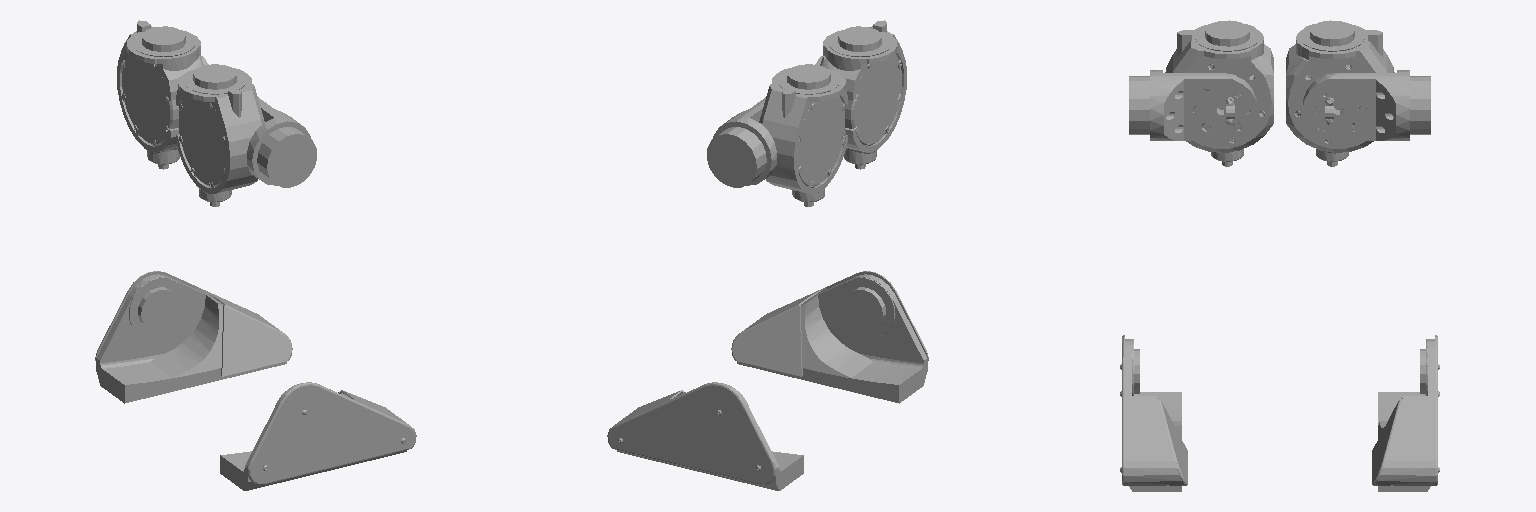
robot.urdf — bdx:
<?xml version="1.0" ?>
<robot name="bdx">
  <material name="silver">
    <color rgba="0.700 0.700 0.700 1.000"/>
  </material>
  <link name="trunk">
    <inertial>
      <origin xyz="0 0 0" rpy="0 0 0" />
      <mass value="1e-9" />
      <inertia ixx="0" ixy="0" ixz="0" iyy="0" iyz="0" izz="0" />
    </inertial>
  </link>
  <joint name="trunk_frame" type="fixed">
    <origin xyz="-0.035 0 0.26943" rpy="0 0 0" />
    <parent link="pelvis" />
    <child link="trunk" />
    <axis xyz="0 0 0"/>
  </joint>
  <joint name="left_hip_yaw" type="revolute">
    <origin rpy="0 0 0" xyz="-0.033111 0.046658 0.363959"/>
    <parent link="pelvis"/>
    <child link="left_hip_rotation"/>
    <axis xyz="-0.0 0.0 -1.0"/>
    <limit lower="-0.7853982" upper="0.7853982" effort="23.7" velocity="30"/>
  </joint>
  <joint name="left_hip_roll" type="revolute">
    <origin rpy="0 0 0" xyz="-0.0073 0.00275 -0.076"/>
    <parent link="left_hip_rotation"/>
    <child link="left_hip"/>
    <axis xyz="1.0 -0.0 -0.0"/>
    <limit lower="-0.7853982" upper="0.7853982" effort="23.7" velocity="30"/>
  </joint>
  <joint name="left_hip_pitch" type="revolute">
    <origin rpy="0 0 0" xyz="0.017466 0.069601 0.000785"/>
    <parent link="left_hip"/>
    <child link="left_thigh"/>
    <axis xyz="0.0 1.0 0.0"/>
    <limit lower="-0.7853982" upper="0.7853982" effort="23.7" velocity="30"/>
  </joint>
  <joint name="left_knee" type="revolute">
    <origin rpy="0 0 0" xyz="-0.079306 0.0 -0.077708"/>
    <parent link="left_thigh"/>
    <child link="left_shin"/>
    <axis xyz="-0.0 -1.0 0.0"/>
    <limit lower="-0.7853982" upper="0.7853982" effort="23.7" velocity="30"/>
  </joint>
  <joint name="left_ankle" type="revolute">
    <origin rpy="0 0 0" xyz="0.045 -0.0152 -0.13"/>
    <parent link="left_shin"/>
    <child link="left_foot_link"/>
    <axis xyz="0.0 1.0 -0.0"/>
    <limit lower="-0.7853982" upper="0.7853982" effort="23.7" velocity="30"/>
  </joint>
  <joint name="right_hip_yaw" type="revolute">
    <origin rpy="0 0 0" xyz="-0.033111 -0.046658 0.363959"/>
    <parent link="pelvis"/>
    <child link="right_hip_rotation"/>
    <axis xyz="-0.0 -0.0 -1.0"/>
    <limit lower="-0.7853982" upper="0.7853982" effort="23.7" velocity="30"/>
  </joint>
  <joint name="right_hip_roll" type="revolute">
    <origin rpy="0 0 0" xyz="-0.0073 -0.00275 -0.076"/>
    <parent link="right_hip_rotation"/>
    <child link="right_hip"/>
    <axis xyz="1.0 -0.0 -0.0"/>
    <limit lower="-0.7853982" upper="0.7853982" effort="23.7" velocity="30"/>
  </joint>
  <joint name="right_hip_pitch" type="revolute">
    <origin rpy="0 0 0" xyz="0.017466 -0.069601 0.000785"/>
    <parent link="right_hip"/>
    <child link="right_thigh"/>
    <axis xyz="-0.0 -1.0 0.0"/>
    <limit lower="-0.7853982" upper="0.7853982" effort="23.7" velocity="30"/>
  </joint>
  <joint name="right_knee" type="revolute">
    <origin rpy="0 0 0" xyz="-0.079306 0.0 -0.077708"/>
    <parent link="right_thigh"/>
    <child link="right_shin"/>
    <axis xyz="0.0 1.0 -0.0"/>
    <limit lower="-0.7853982" upper="0.7853982" effort="23.7" velocity="30"/>
  </joint>
  <joint name="right_ankle" type="revolute">
    <origin rpy="0 0 0" xyz="0.045 0.0152 -0.13"/>
    <parent link="right_shin"/>
    <child link="right_foot_link"/>
    <axis xyz="-0.0 -1.0 0.0"/>
    <limit lower="-0.7853982" upper="0.7853982" effort="23.7" velocity="30"/>
  </joint>
  <joint name="neck_pitch" type="revolute">
    <origin rpy="0 0 0" xyz="0.056339 0.0119 0.395171"/>
    <parent link="pelvis"/>
    <child link="neck"/>
    <axis xyz="-0.0 -1.0 0.0"/>
    <limit lower="-0.7853982" upper="0.7853982" effort="23.7" velocity="30"/>
  </joint>
  <joint name="head_pitch" type="revolute">
    <origin rpy="0 0 0" xyz="-0.065022 -0.01175 0.11088"/>
    <parent link="neck"/>
    <child link="head_body_pitch"/>
    <axis xyz="-0.0 -1.0 0.0"/>
    <limit lower="-0.7853982" upper="0.7853982" effort="7.3" velocity="5.55"/>
  </joint>
  <joint name="head_yaw" type="revolute">
    <origin rpy="0 0 0" xyz="0.000299 0.0007 0.02897"/>
    <parent link="head_body_pitch"/>
    <child link="head_body_yaw"/>
    <axis xyz="-0.0 -0.0 1.0"/>
    <limit lower="-0.7853982" upper="0.7853982" effort="7.3" velocity="5.55"/>
  </joint>
  <joint name="head_roll" type="revolute">
    <origin rpy="0 0 0" xyz="0.039892 0.0 0.02715"/>
    <parent link="head_body_yaw"/>
    <child link="head_body_roll"/>
    <axis xyz="1.0 -0.0 0.0"/>
    <limit lower="-0.7853982" upper="0.7853982" effort="7.3" velocity="5.55"/>
  </joint>
  <joint name="left_antenna" type="revolute">
    <origin rpy="0 0 0" xyz="-0.16665 0.0683 0.001231"/>
    <parent link="head_body_roll"/>
    <child link="ear_left"/>
    <axis xyz="-0.0 -1.0 -0.0"/>
    <limit lower="-0.7853982" upper="0.7853982" effort="0.2943" velocity="13.62"/>
  </joint>
  <joint name="right_antenna" type="revolute">
    <origin rpy="0 0 0" xyz="-0.16665 -0.0697 0.001231"/>
    <parent link="head_body_roll"/>
    <child link="ear_right"/>
    <axis xyz="-0.0 -1.0 -0.0"/>
    <limit lower="-0.7853982" upper="0.7853982" effort="0.2943" velocity="13.62"/>
  </joint>
  <link name="pelvis">
    <inertial>
      <origin rpy="0 0 0" xyz="-0.053755951684186565 0.0011833805784402802 0.3419474505132109"/>
      <mass value="5.713"/>
      <inertia ixx="0.201691" ixy="-0.002118" ixz="0.016433" iyy="0.431684" iyz="-0.001502" izz="0.371809"/>
    </inertial>
    <visual>
      <origin rpy="0 0 0" xyz="0 0 0"/>
      <geometry>
        <mesh filename="package://bdx_description/meshes/pelvis.stl" scale="0.001 0.001 0.001"/>
      </geometry>
      <material name="silver"/>
    </visual>
    <collision>
      <origin rpy="0 0 0" xyz="0 0 0"/>
      <geometry>
        <mesh filename="package://bdx_description/meshes/pelvis.stl" scale="0.001 0.001 0.001"/>
      </geometry>
    </collision>
  </link>
  <link name="left_foot">
    <inertial>
      <origin xyz="0 0 0" rpy="0 0 0" />
      <mass value="1e-9" />
      <inertia ixx="0" ixy="0" ixz="0" iyy="0" iyz="0" izz="0" />
    </inertial>
  </link>
  <joint name="left_foot_frame" type="fixed">
      <origin xyz="0.025 0.0 -0.0785" rpy="0 0 0" />
      <parent link="left_foot_link" />
      <child link="left_foot" />
      <axis xyz="0 0 0"/>
  </joint>
  <link name="left_foot_link">
    <inertial>
      <origin rpy="0 0 0" xyz="0.03176454302608206 0.007933373772940469 -0.042151517495486915"/>
      <mass value="0.678"/>
      <inertia ixx="0.003343" ixy="0.000338" ixz="0.000572" iyy="0.010216" iyz="-0.000559" izz="0.008414"/>
    </inertial>
    <visual>
      <origin rpy="0 0 0" xyz="0.057251 -0.103809 -0.081036"/>
      <geometry>
        <mesh filename="package://bdx_description/meshes/left_foot.stl" scale="0.001 0.001 0.001"/>
      </geometry>
      <material name="silver"/>
    </visual>
    <collision>
      <origin rpy="0 0 0" xyz="0.057251 -0.103809 -0.081036"/>
      <geometry>
        <mesh filename="package://bdx_description/meshes/left_foot.stl" scale="0.001 0.001 0.001"/>
      </geometry>
    </collision>
  </link>
  <link name="left_shin">
    <inertial>
      <origin rpy="0 0 0" xyz="0.022294583259108075 -0.014936697575107835 -0.09005879619606566"/>
      <mass value="0.633"/>
      <inertia ixx="0.008877" ixy="0.000288" ixz="0.002995" iyy="0.011732" iyz="-0.000503" izz="0.003534"/>
    </inertial>
    <visual>
      <origin rpy="0 0 0" xyz="0.102251 -0.119009 -0.211036"/>
      <geometry>
        <mesh filename="package://bdx_description/meshes/left_shin.stl" scale="0.001 0.001 0.001"/>
      </geometry>
      <material name="silver"/>
    </visual>
    <collision>
      <origin rpy="0 0 0" xyz="0.102251 -0.119009 -0.211036"/>
      <geometry>
        <mesh filename="package://bdx_description/meshes/left_shin.stl" scale="0.001 0.001 0.001"/>
      </geometry>
    </collision>
  </link>
  <link name="left_thigh">
    <inertial>
      <origin rpy="0 0 0" xyz="-0.03410869713640875 0.02677272953598611 -0.034446694656980914"/>
      <mass value="0.633"/>
      <inertia ixx="0.024423" ixy="-0.000254" ixz="-0.014456" iyy="0.047342" iyz="-2.5e-05" izz="0.029001"/>
    </inertial>
    <visual>
      <origin rpy="0 0 0" xyz="0.022945 -0.119009 -0.288744"/>
      <geometry>
        <mesh filename="package://bdx_description/meshes/left_thigh.stl" scale="0.001 0.001 0.001"/>
      </geometry>
      <material name="silver"/>
    </visual>
    <collision>
      <origin rpy="0 0 0" xyz="0.022945 -0.119009 -0.288744"/>
      <geometry>
        <mesh filename="package://bdx_description/meshes/left_thigh.stl" scale="0.001 0.001 0.001"/>
      </geometry>
    </collision>
  </link>
  <link name="left_hip">
    <inertial>
      <origin rpy="0 0 0" xyz="0.01891117648514914 0.023471260644046747 0.00036212347671088496"/>
      <mass value="0.633"/>
      <inertia ixx="0.001496" ixy="-4.5e-05" ixz="-4e-06" iyy="0.000508" iyz="-4e-06" izz="0.001368"/>
    </inertial>
    <visual>
      <origin rpy="0 0 0" xyz="0.040411 -0.049408 -0.287959"/>
      <geometry>
        <mesh filename="package://bdx_description/meshes/left_hip.stl" scale="0.001 0.001 0.001"/>
      </geometry>
      <material name="silver"/>
    </visual>
    <collision>
      <origin rpy="0 0 0" xyz="0.040411 -0.049408 -0.287959"/>
      <geometry>
        <mesh filename="package://bdx_description/meshes/left_hip.stl" scale="0.001 0.001 0.001"/>
      </geometry>
    </collision>
  </link>
  <link name="left_hip_rotation">
    <inertial>
      <origin rpy="0 0 0" xyz="-0.0050839710984315195 0.0030924159298773846 -0.0631042772217113"/>
      <mass value="0.633"/>
      <inertia ixx="0.005331" ixy="8e-06" ixz="-0.000134" iyy="0.004179" iyz="9.4e-05" izz="0.001979"/>
    </inertial>
    <visual>
      <origin rpy="0 0 0" xyz="0.033111 -0.046658 -0.363959"/>
      <geometry>
        <mesh filename="package://bdx_description/meshes/left_hip_rotation.stl" scale="0.001 0.001 0.001"/>
      </geometry>
      <material name="silver"/>
    </visual>
    <collision>
      <origin rpy="0 0 0" xyz="0.033111 -0.046658 -0.363959"/>
      <geometry>
        <mesh filename="package://bdx_description/meshes/left_hip_rotation.stl" scale="0.001 0.001 0.001"/>
      </geometry>
    </collision>
  </link>
  <link name="right_foot">
    <inertial>
      <origin xyz="0 0 0" rpy="0 0 0" />
      <mass value="1e-9" />
      <inertia ixx="0" ixy="0" ixz="0" iyy="0" iyz="0" izz="0" />
    </inertial>
  </link>
  <joint name="right_foot_frame" type="fixed">
      <origin xyz="0.025 0.0 -0.0785" rpy="0 0 0" />
      <parent link="right_foot_link" />
      <child link="right_foot" />
      <axis xyz="0 0 0"/>
  </joint>
  <link name="right_foot_link">
    <inertial>
      <origin rpy="0 0 0" xyz="0.03176454302608035 -0.00793337377294008 -0.042151517495486845"/>
      <mass value="0.678"/>
      <inertia ixx="0.003343" ixy="-0.000338" ixz="0.000572" iyy="0.010216" iyz="0.000559" izz="0.008414"/>
    </inertial>
    <visual>
      <origin rpy="0 0 0" xyz="0.057251 0.103809 -0.081036"/>
      <geometry>
        <mesh filename="package://bdx_description/meshes/right_foot.stl" scale="0.001 0.001 0.001"/>
      </geometry>
      <material name="silver"/>
    </visual>
    <collision>
      <origin rpy="0 0 0" xyz="0.057251 0.103809 -0.081036"/>
      <geometry>
        <mesh filename="package://bdx_description/meshes/right_foot.stl" scale="0.001 0.001 0.001"/>
      </geometry>
    </collision>
  </link>
  <link name="right_shin">
    <inertial>
      <origin rpy="0 0 0" xyz="0.022294581455755427 0.014936696596238155 -0.09005879470076929"/>
      <mass value="0.633"/>
      <inertia ixx="0.008877" ixy="-0.000288" ixz="0.002995" iyy="0.011732" iyz="0.000503" izz="0.003534"/>
    </inertial>
    <visual>
      <origin rpy="0 0 0" xyz="0.102251 0.119009 -0.211036"/>
      <geometry>
        <mesh filename="package://bdx_description/meshes/right_shin.stl" scale="0.001 0.001 0.001"/>
      </geometry>
      <material name="silver"/>
    </visual>
    <collision>
      <origin rpy="0 0 0" xyz="0.102251 0.119009 -0.211036"/>
      <geometry>
        <mesh filename="package://bdx_description/meshes/right_shin.stl" scale="0.001 0.001 0.001"/>
      </geometry>
    </collision>
  </link>
  <link name="right_thigh">
    <inertial>
      <origin rpy="0 0 0" xyz="-0.03410869899821546 -0.026772733326120124 -0.03444669565952929"/>
      <mass value="0.633"/>
      <inertia ixx="0.024423" ixy="0.000254" ixz="-0.014456" iyy="0.047342" iyz="2.5e-05" izz="0.029001"/>
    </inertial>
    <visual>
      <origin rpy="0 0 0" xyz="0.022945 0.119009 -0.288744"/>
      <geometry>
        <mesh filename="package://bdx_description/meshes/right_thigh.stl" scale="0.001 0.001 0.001"/>
      </geometry>
      <material name="silver"/>
    </visual>
    <collision>
      <origin rpy="0 0 0" xyz="0.022945 0.119009 -0.288744"/>
      <geometry>
        <mesh filename="package://bdx_description/meshes/right_thigh.stl" scale="0.001 0.001 0.001"/>
      </geometry>
    </collision>
  </link>
  <link name="right_hip">
    <inertial>
      <origin rpy="0 0 0" xyz="0.01891117648514806 -0.023471260644046442 0.00036212347671088496"/>
      <mass value="0.633"/>
      <inertia ixx="0.001496" ixy="4.5e-05" ixz="-4e-06" iyy="0.000508" iyz="4e-06" izz="0.001368"/>
    </inertial>
    <visual>
      <origin rpy="0 0 0" xyz="0.040411 0.049408 -0.287959"/>
      <geometry>
        <mesh filename="package://bdx_description/meshes/right_hip.stl" scale="0.001 0.001 0.001"/>
      </geometry>
      <material name="silver"/>
    </visual>
    <collision>
      <origin rpy="0 0 0" xyz="0.040411 0.049408 -0.287959"/>
      <geometry>
        <mesh filename="package://bdx_description/meshes/right_hip.stl" scale="0.001 0.001 0.001"/>
      </geometry>
    </collision>
  </link>
  <link name="right_hip_rotation">
    <inertial>
      <origin rpy="0 0 0" xyz="-0.005083970545589955 -0.0030924159660494083 -0.0631042786786194"/>
      <mass value="0.633"/>
      <inertia ixx="0.005331" ixy="-8e-06" ixz="-0.000134" iyy="0.004179" iyz="-9.4e-05" izz="0.001979"/>
    </inertial>
    <visual>
      <origin rpy="0 0 0" xyz="0.033111 0.046658 -0.363959"/>
      <geometry>
        <mesh filename="package://bdx_description/meshes/right_hip_rotation.stl" scale="0.001 0.001 0.001"/>
      </geometry>
      <material name="silver"/>
    </visual>
    <collision>
      <origin rpy="0 0 0" xyz="0.033111 0.046658 -0.363959"/>
      <geometry>
        <mesh filename="package://bdx_description/meshes/right_hip_rotation.stl" scale="0.001 0.001 0.001"/>
      </geometry>
    </collision>
  </link>
  <link name="ear_right">
    <inertial>
      <origin rpy="0 0 0" xyz="0.0001615646627644296 -0.024729110791009132 0.016144998004147593"/>
      <mass value="0.09640158820730861"/>
      <inertia ixx="0.000207" ixy="0.0" ixz="-1.4e-05" iyy="0.0002" iyz="9e-06" izz="2.1e-05"/>
    </inertial>
    <visual>
      <origin rpy="0 0 0" xyz="0.135142 0.06885 -0.563402"/>
      <geometry>
        <mesh filename="package://bdx_description/meshes/ear_right.stl" scale="0.001 0.001 0.001"/>
      </geometry>
      <material name="silver"/>
    </visual>
    <collision>
      <origin rpy="0 0 0" xyz="0.135142 0.06885 -0.563402"/>
      <geometry>
        <mesh filename="package://bdx_description/meshes/ear_right.stl" scale="0.001 0.001 0.001"/>
      </geometry>
    </collision>
  </link>
  <link name="ear_left">
    <inertial>
      <origin rpy="0 0 0" xyz="0.00016156466276556758 0.02472912163478709 0.016144998004147926"/>
      <mass value="0.09640158820730847"/>
      <inertia ixx="0.000207" ixy="-0.0" ixz="-1.4e-05" iyy="0.0002" iyz="-9e-06" izz="2.1e-05"/>
    </inertial>
    <visual>
      <origin rpy="0 0 0" xyz="0.135142 -0.06915 -0.563402"/>
      <geometry>
        <mesh filename="package://bdx_description/meshes/ear_left.stl" scale="0.001 0.001 0.001"/>
      </geometry>
      <material name="silver"/>
    </visual>
    <collision>
      <origin rpy="0 0 0" xyz="0.135142 -0.06915 -0.563402"/>
      <geometry>
        <mesh filename="package://bdx_description/meshes/ear_left.stl" scale="0.001 0.001 0.001"/>
      </geometry>
    </collision>
  </link>
  <link name="head">
      <inertial>
          <origin xyz="0 0 0" rpy="0 0 0" />
          <mass value="1e-9" />
          <inertia ixx="0" ixy="0" ixz="0" iyy="0" iyz="0" izz="0" />
      </inertial>
  </link>
  <joint name="head_frame" type="fixed">
      <origin xyz="-0.03 0 0.05" rpy="0 0 0"/>
      <parent link="head_body_roll" />
      <child link="head" />
      <axis xyz="0 0 0"/>
  </joint>
  <link name="head_body_roll">
    <inertial>
      <origin rpy="0 0 0" xyz="-0.033968727756986235 0.0014876580341947271 0.002427645109891574"/>
      <mass value="0.4"/>
      <inertia ixx="0.041565" ixy="-0.001049" ixz="-0.001655" iyy="0.047007" iyz="-0.000217" izz="0.080654"/>
    </inertial>
    <visual>
      <origin rpy="0 0 0" xyz="-0.031508 -0.00085 -0.562171"/>
      <geometry>
        <mesh filename="package://bdx_description/meshes/head_body_roll.stl" scale="0.001 0.001 0.001"/>
      </geometry>
      <material name="silver"/>
    </visual>
    <collision>
      <origin rpy="0 0 0" xyz="-0.031508 -0.00085 -0.562171"/>
      <geometry>
        <mesh filename="package://bdx_description/meshes/head_body_roll.stl" scale="0.001 0.001 0.001"/>
      </geometry>
    </collision>
  </link>
  <link name="head_body_yaw">
    <inertial>
      <origin rpy="0 0 0" xyz="0.007854612556277348 -1.4610759692288647e-06 0.022545092583183712"/>
      <mass value="0.200"/>
      <inertia ixx="0.000226" ixy="-0.0" ixz="-5.7e-05" iyy="0.000559" iyz="-0.0" izz="0.00054"/>
    </inertial>
    <visual>
      <origin rpy="0 0 0" xyz="0.008384 -0.00085 -0.535021"/>
      <geometry>
        <mesh filename="package://bdx_description/meshes/head_body_yaw.stl" scale="0.001 0.001 0.001"/>
      </geometry>
      <material name="silver"/>
    </visual>
    <collision>
      <origin rpy="0 0 0" xyz="0.008384 -0.00085 -0.535021"/>
      <geometry>
        <mesh filename="package://bdx_description/meshes/head_body_yaw.stl" scale="0.001 0.001 0.001"/>
      </geometry>
    </collision>
  </link>
  <link name="head_body_pitch">
    <inertial>
      <origin rpy="0 0 0" xyz="-0.012968234611992 -0.0017146542693841447 0.02775588249672334"/>
      <mass value="0.200"/>
      <inertia ixx="0.000368" ixy="1.6e-05" ixz="8.6e-05" iyy="0.000336" iyz="-2.7e-05" izz="0.000202"/>
    </inertial>
    <visual>
      <origin rpy="0 0 0" xyz="0.008683 -0.00015 -0.506051"/>
      <geometry>
        <mesh filename="package://bdx_description/meshes/head_body_pitch.stl" scale="0.001 0.001 0.001"/>
      </geometry>
      <material name="silver"/>
    </visual>
    <collision>
      <origin rpy="0 0 0" xyz="0.008683 -0.00015 -0.506051"/>
      <geometry>
        <mesh filename="package://bdx_description/meshes/head_body_pitch.stl" scale="0.001 0.001 0.001"/>
      </geometry>
    </collision>
  </link>
  <link name="neck">
    <inertial>
      <origin rpy="0 0 0" xyz="-0.024004254429775385 -0.016411240253498143 0.050435044753794234"/>
      <mass value="0.633"/>
      <inertia ixx="0.005277" ixy="0.000151" ixz="0.00222" iyy="0.006434" iyz="-0.00041" izz="0.00225"/>
    </inertial>
    <visual>
      <origin rpy="0 0 0" xyz="-0.056339 -0.0119 -0.395171"/>
      <geometry>
        <mesh filename="package://bdx_description/meshes/neck.stl" scale="0.001 0.001 0.001"/>
      </geometry>
      <material name="silver"/>
    </visual>
    <collision>
      <origin rpy="0 0 0" xyz="-0.056339 -0.0119 -0.395171"/>
      <geometry>
        <mesh filename="package://bdx_description/meshes/neck.stl" scale="0.001 0.001 0.001"/>
      </geometry>
    </collision>
  </link>
</robot>

--- Render facts (derived) ---
3 views of the same robot in one strip: view 1: azimuth 30°, elevation 25°; view 2: azimuth 150°, elevation 25°; view 3: azimuth 270°, elevation 25° (orthographic).
Robot: bdx — 21 links, 20 joints (16 revolute, 4 fixed); root link pelvis; default pose: every joint at zero.
Visible links, largest first — view 1: left_foot_link, right_foot_link, right_hip_rotation, left_hip_rotation, right_hip; view 2: right_foot_link, left_foot_link, left_hip_rotation, right_hip_rotation, left_hip; view 3: right_hip, left_hip, left_foot_link, right_foot_link, left_hip_rotation, right_hip_rotation.
Boxes of the visible links, left/top/right/bottom form: left_foot_link: left=95, top=271, right=292, bottom=403; right_foot_link: left=220, top=382, right=416, bottom=490; right_hip_rotation: left=176, top=64, right=264, bottom=206; left_hip_rotation: left=117, top=20, right=203, bottom=169; right_hip: left=247, top=97, right=316, bottom=187; right_foot_link: left=731, top=271, right=928, bottom=403; left_foot_link: left=607, top=382, right=803, bottom=490; left_hip_rotation: left=759, top=64, right=847, bottom=206; right_hip_rotation: left=820, top=20, right=906, bottom=169; left_hip: left=707, top=97, right=776, bottom=187; right_hip: left=1129, top=70, right=1256, bottom=140; left_hip: left=1303, top=70, right=1430, bottom=140; left_foot_link: left=1372, top=335, right=1439, bottom=491; right_foot_link: left=1120, top=335, right=1187, bottom=491; left_hip_rotation: left=1286, top=20, right=1394, bottom=166; right_hip_rotation: left=1165, top=20, right=1273, bottom=166.
Bounding box of the posed robot: 0.1919 × 0.2831 × 0.3801 m (x, y, z).
Meshes: 17 distinct files referenced, 6 mesh visuals loaded (6 binary STL); not drawn: 11 (reference not matched to a file when rendering).